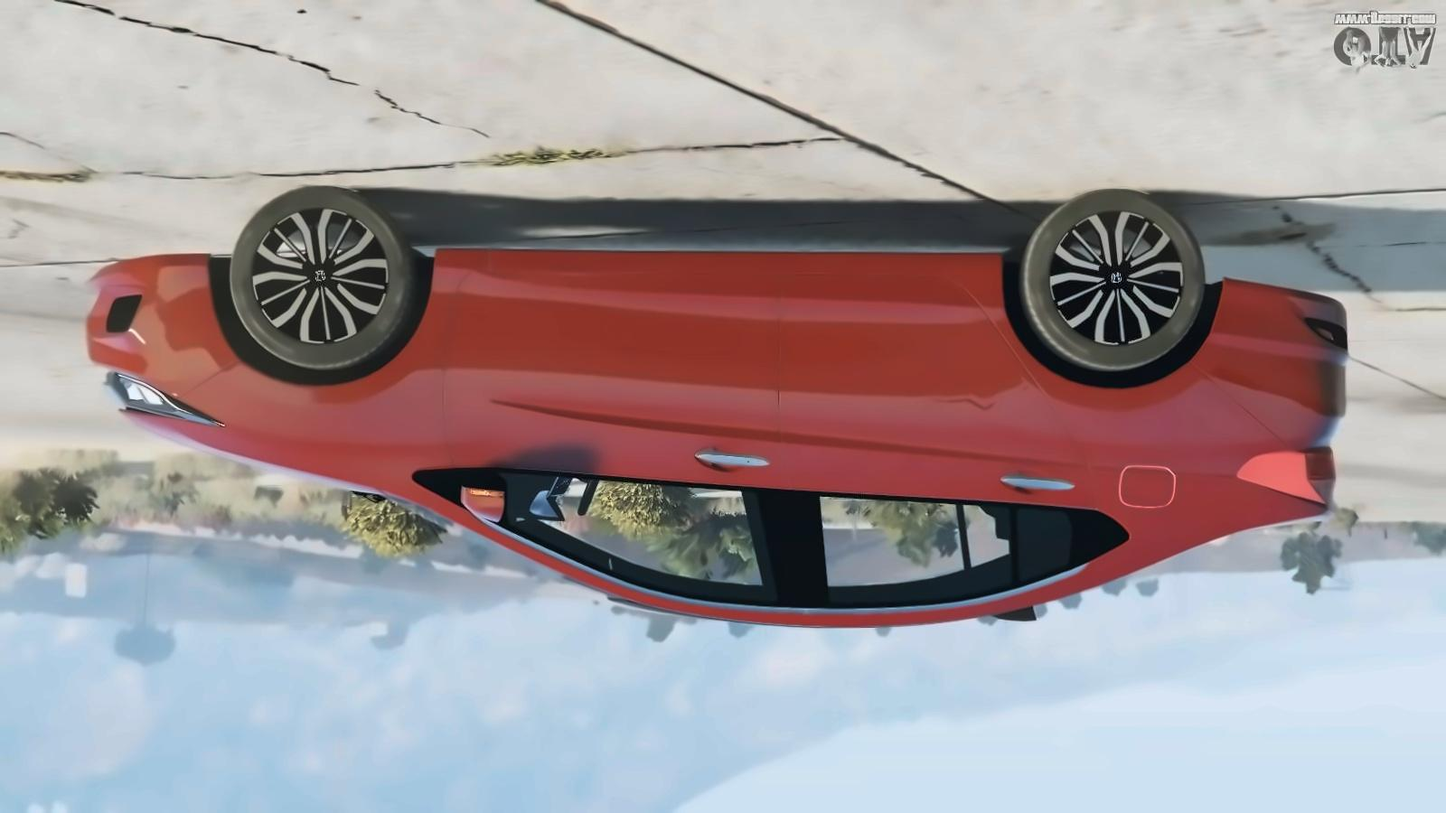Driver-s door - -F-R-: (424, 231, 789, 645)
Fender - -F-R-: (174, 292, 468, 520)
Fender - -R-R-: (961, 281, 1250, 525)
Front bumper: (81, 247, 248, 403)
Headlight - -R-: (102, 365, 225, 438)
Passenger-s door - -R-R-: (763, 229, 1112, 644)
Rear bumper: (1192, 266, 1363, 453)
Rear light - -R-: (1232, 444, 1347, 512)
